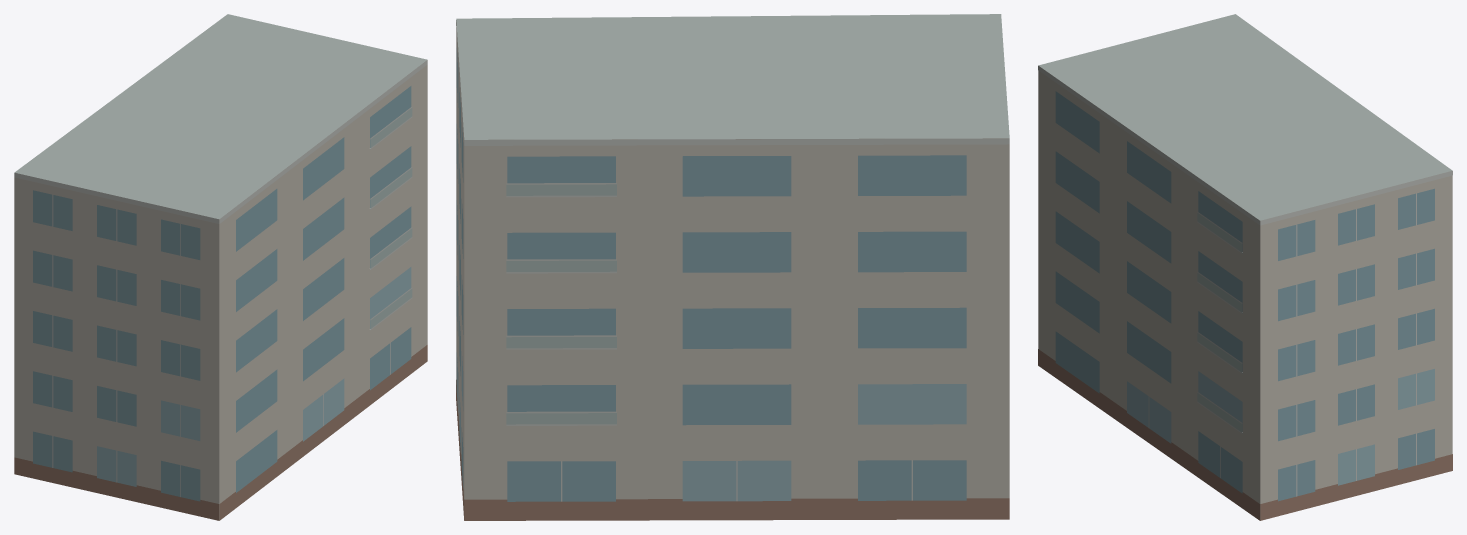
The model's file is survey-upis-32766590.glb.
3 renders of one model, left to right at view 1: azimuth 30°, elevation 25°; view 2: azimuth 150°, elevation 25°; view 3: azimuth 270°, elevation 25°, orthographic. The views are drawn at different scales.
Visible parts, largest first — view 1: survey-upis-32766590.tmp; view 2: survey-upis-32766590.tmp; view 3: survey-upis-32766590.tmp.
Boxes of the visible parts, bbox=[...] form: survey-upis-32766590.tmp: bbox=[14, 14, 427, 520]; survey-upis-32766590.tmp: bbox=[456, 14, 1009, 520]; survey-upis-32766590.tmp: bbox=[1038, 14, 1452, 520].
Size of the model in its own units: 22.54 by 15.25 by 19.1.
